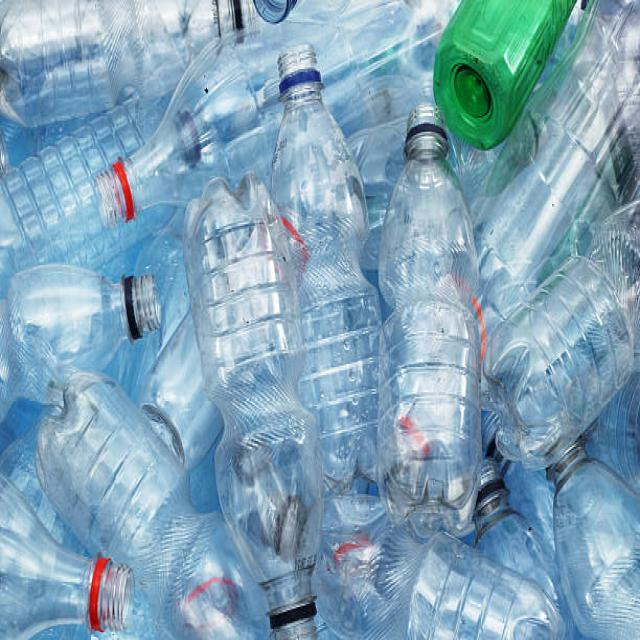Vidrio: (261, 49, 411, 540), (183, 168, 323, 638), (378, 111, 482, 521)
